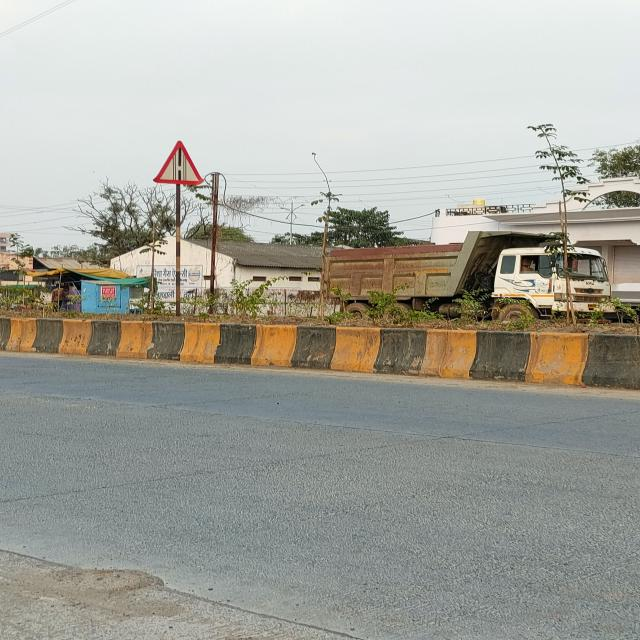ferry: (150, 139, 203, 184)
